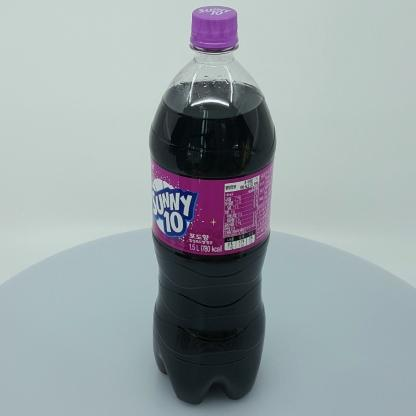-----------1-5L: (148, 5, 277, 405)
